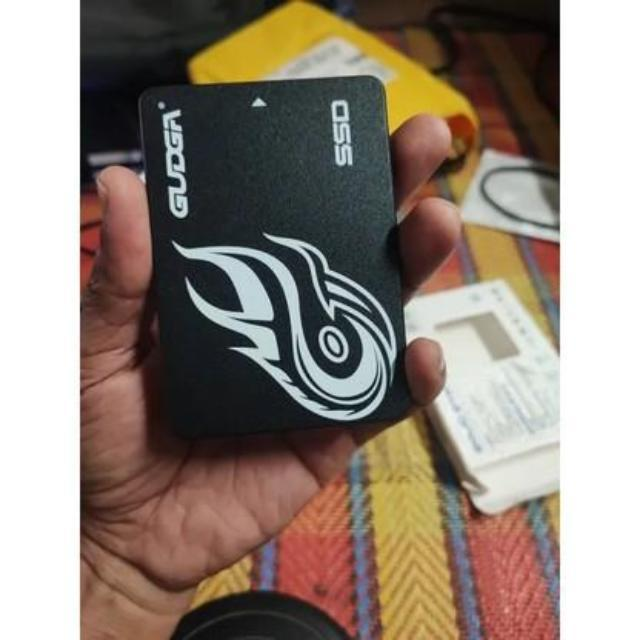DISK: (136, 76, 412, 441)
